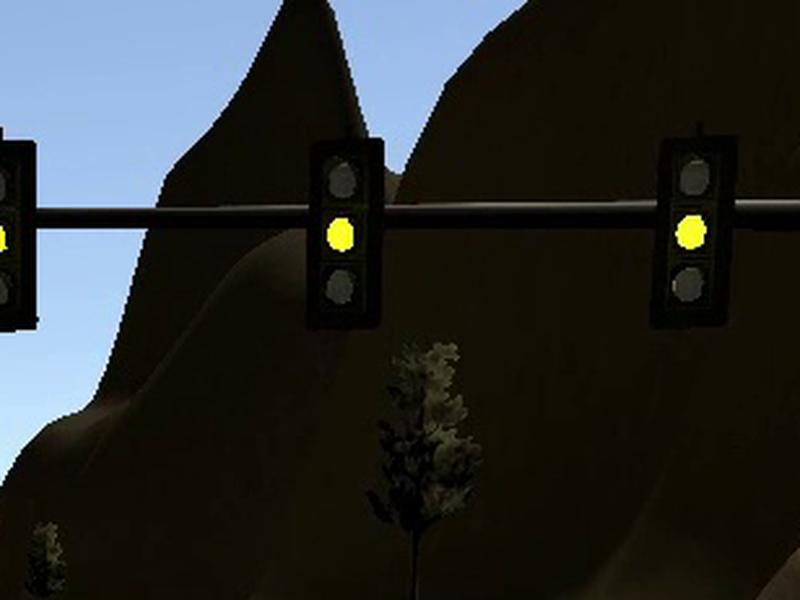Yellow: (649, 135, 737, 329), (306, 137, 384, 327), (1, 139, 39, 333)
